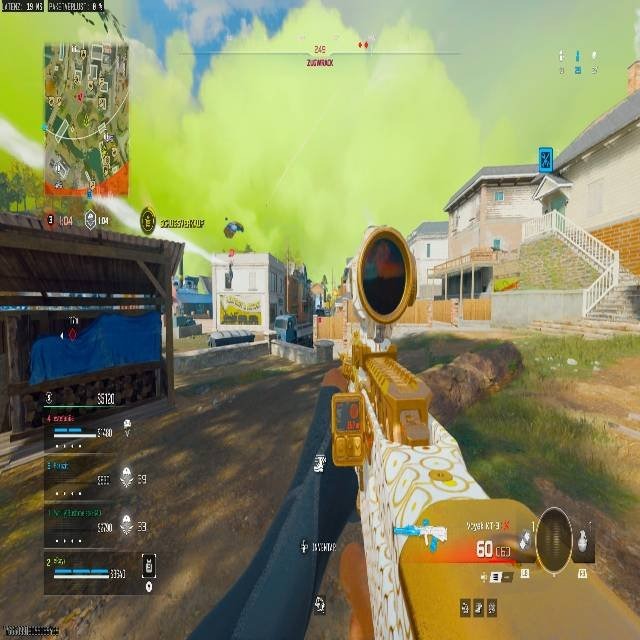player: (306, 287, 324, 319), (139, 205, 156, 236)
